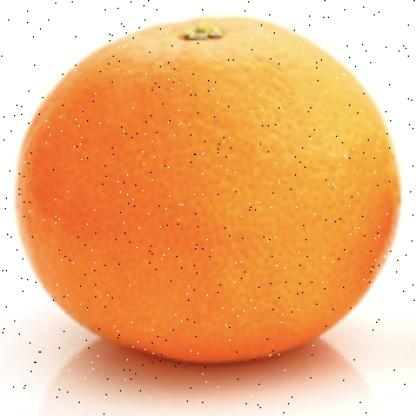fresh: (15, 18, 402, 363)
